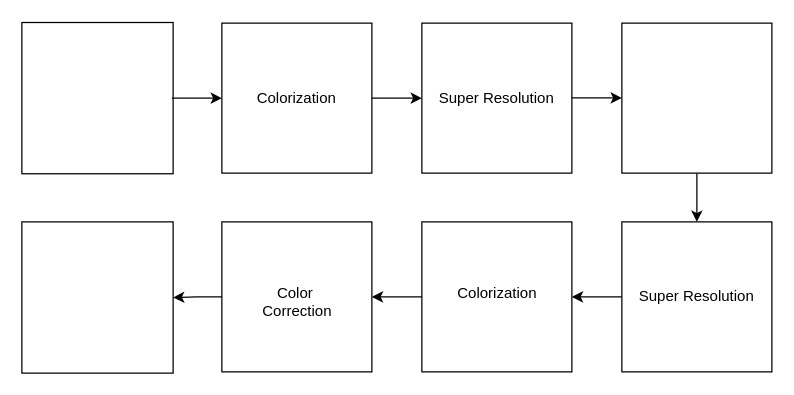
Some shapes in this 794 by 395 pixel diagram are drawn without their labels. The centre of each missing label's shape, as x and y in pixels:
"Input Video 480p - 2 5fps - BW" goes at point 97,97.
"Output 4K - 60fps - RGB" goes at point 97,297.
"Video Frame Interpolation" goes at point 696,97.
